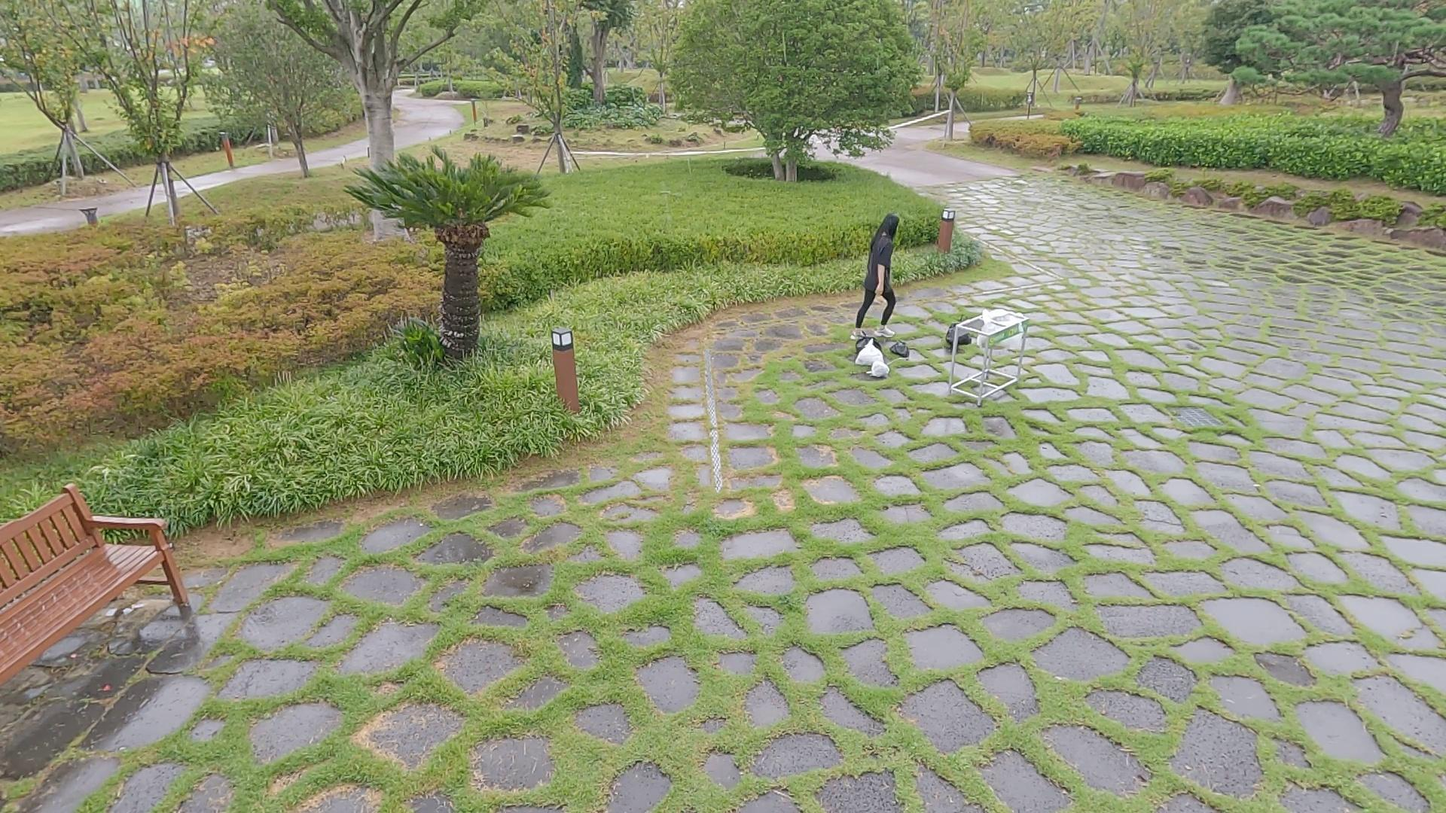person: (848, 205, 908, 343)
trash: (854, 337, 890, 371), (944, 316, 971, 350), (854, 331, 879, 356), (868, 358, 892, 382), (893, 340, 910, 362)
